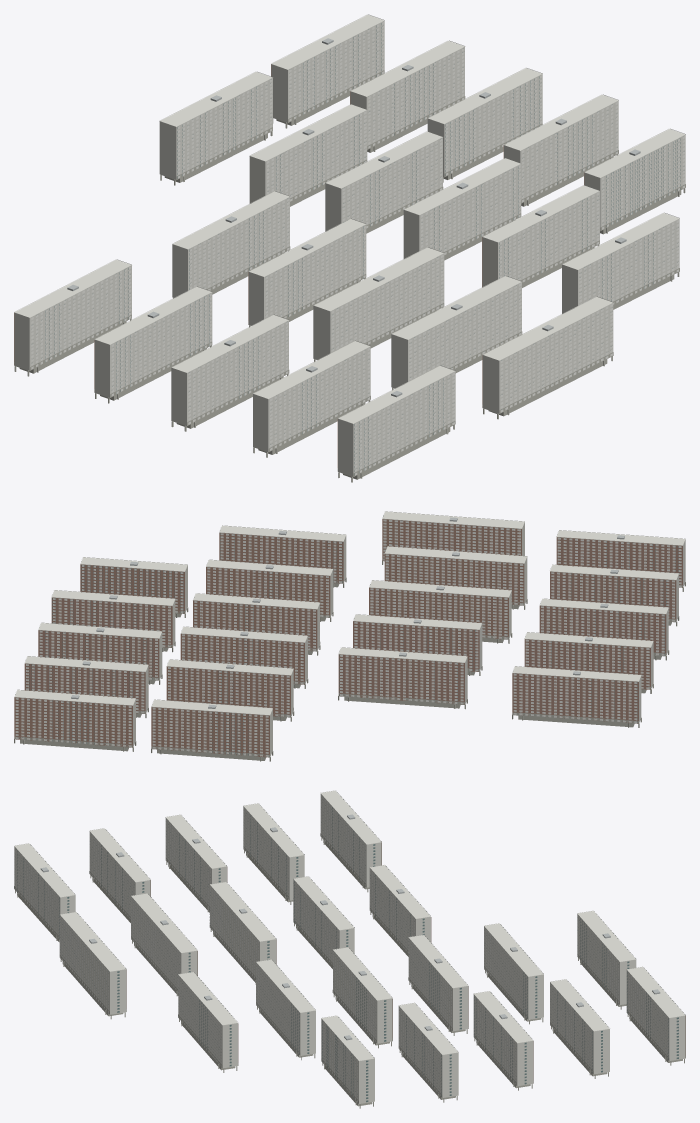
The model's file is representative-a13528004.glb.
The picture shows the model from 3 angles, top to bottom: view 1: azimuth 30°, elevation 25°; view 2: azimuth 150°, elevation 25°; view 3: azimuth 270°, elevation 25°; orthographic projection. The views are drawn at different scales.
Parts seen in each view (by area): view 1: A13528004_wall, A13528004_trim, A13528004_base, A13528004_glass, A13528004_roof; view 2: A13528004_accent, A13528004_trim, A13528004_wall, A13528004_base, A13528004_glass, A13528004_roof; view 3: A13528004_wall, A13528004_trim, A13528004_base, A13528004_glass, A13528004_roof.
Boxes of the visible parts, box(x1,y1,x2,y2) form: A13528004_wall: box(14, 15, 685, 476); A13528004_trim: box(14, 14, 685, 475); A13528004_base: box(14, 70, 685, 482); A13528004_glass: box(36, 23, 684, 475); A13528004_roof: box(67, 38, 640, 397); A13528004_accent: box(14, 519, 682, 757); A13528004_trim: box(14, 511, 685, 756); A13528004_wall: box(14, 511, 685, 756); A13528004_base: box(14, 558, 685, 761); A13528004_glass: box(15, 515, 680, 755); A13528004_roof: box(71, 517, 624, 708); A13528004_wall: box(14, 790, 685, 1103); A13528004_trim: box(14, 790, 685, 1102); A13528004_base: box(14, 833, 685, 1108); A13528004_glass: box(14, 799, 678, 1102); A13528004_roof: box(40, 814, 660, 1040).
Size of the model in its own units: 514 by 43.2 by 539.
